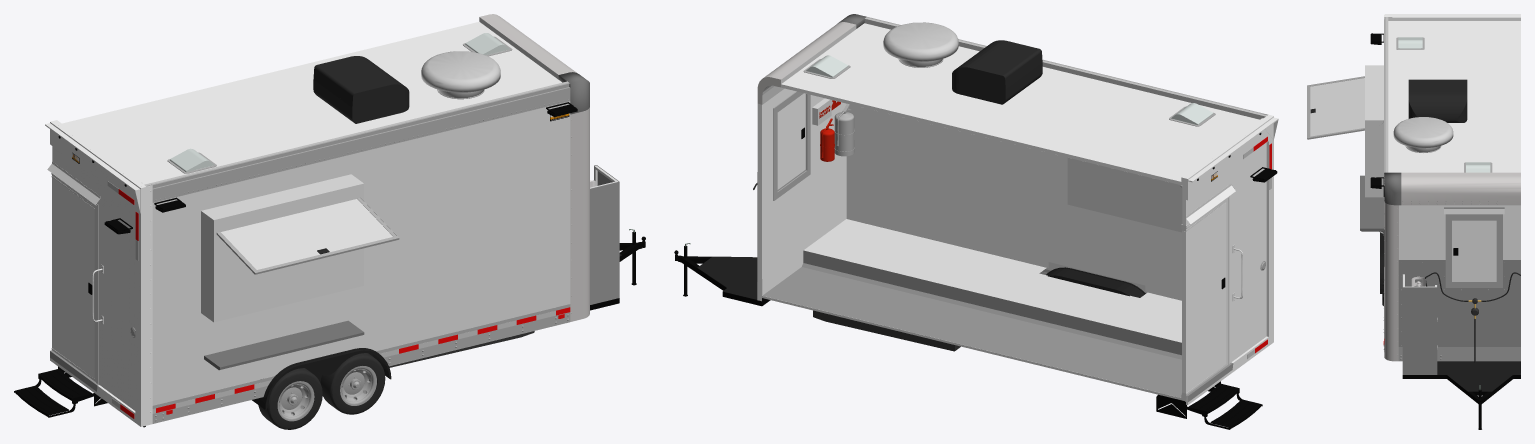
The model's file is 16-serving.glb.
3 renders of one model, left to right at view 1: azimuth 30°, elevation 25°; view 2: azimuth 150°, elevation 25°; view 3: azimuth 270°, elevation 25°, orthographic. The views are drawn at different scales.
Visible parts, largest first — view 1: wrap_image_right .001, 3DGeom-25 .001, WindowBox, Entrance door with frame 72 x 36:Entrance door with frame 72, wrap_image_back .001, 3DGeom-26 .006, Window, back-bamper.001, 3DGeom-26 .005, 3DGeom-18 .002, 3DGeom-68.005, 3DGeom-21.005 (+16 smaller); view 2: Plane .006, 3DGeom-25 .001, 3DGeom-59.016, floor.001, Entrance door with frame 72 x 36:Entrance door with frame 72, wrap_image_back .001, WindowBox, back-bamper.001, Emergency exit door 24 x 36 Emergency exit door 24 x 36_22d , 3DGeom-66.006, 3DGeom-64.004, 3DGeom-53 .001 (+10 smaller); view 3: 3DGeom-25 .001, 3DGeom-19.009, Emergency exit door 24 x 36 Emergency exit door 24 x 36_22d , 3DGeom-18 .004, wrap_image_front .002, Window, 3DGeom-68.005, WindowBox, 3DGeom-18 .002, 3DGeom-66.006, 3DGeom-40.002, 3DGeom-64.004 (+13 smaller).
Part boxes in pixels (box(x1,y1,x2,y2)): wrap_image_right .001: box(152, 101, 570, 405); 3DGeom-25 .001: box(62, 21, 561, 184); WindowBox: box(201, 174, 363, 322); Entrance door with frame 72 x 36:Entrance door with frame 72: box(47, 161, 100, 383); wrap_image_back .001: box(52, 146, 135, 410); 3DGeom-26 .006: box(152, 83, 570, 202); Window: box(216, 197, 399, 274); back-bamper.001: box(45, 121, 152, 426); 3DGeom-26 .005: box(152, 304, 570, 423); 3DGeom-18 .002: box(570, 107, 589, 321); 3DGeom-68.005: box(590, 165, 619, 304); 3DGeom-21.005: box(258, 353, 385, 429); Plane .006: box(762, 88, 1181, 300); 3DGeom-25 .001: box(781, 23, 1259, 184); 3DGeom-59.016: box(762, 250, 1181, 397); floor.001: box(803, 219, 1181, 342); Entrance door with frame 72 x 36:Entrance door with frame 72: box(1181, 183, 1235, 399); wrap_image_back .001: box(1182, 143, 1266, 362); WindowBox: box(1067, 157, 1182, 232); back-bamper.001: box(1186, 113, 1278, 405); Emergency exit door 24 x 36 Emergency exit door 24 x 36_22d : box(773, 91, 810, 200); 3DGeom-66.006: box(952, 40, 1042, 89); 3DGeom-64.004: box(883, 22, 958, 67); 3DGeom-53 .001: box(1156, 381, 1262, 429); 3DGeom-25 .001: box(1388, 21, 1520, 172); 3DGeom-19.009: box(1398, 260, 1520, 346); Emergency exit door 24 x 36 Emergency exit door 24 x 36_22d : box(1444, 207, 1504, 287); 3DGeom-18 .004: box(1401, 172, 1520, 205); wrap_image_front .002: box(1399, 205, 1520, 259); Window: box(1307, 76, 1383, 139); 3DGeom-68.005: box(1402, 274, 1437, 374); WindowBox: box(1365, 65, 1383, 197); 3DGeom-18 .002: box(1384, 200, 1398, 361); 3DGeom-66.006: box(1408, 79, 1467, 117); 3DGeom-40.002: box(1437, 361, 1520, 391); 3DGeom-64.004: box(1393, 117, 1453, 152).
Bounding box in the file's own units: 6.72 × 3.21 × 2.71.
Materials: 74 (2 with a texture image).
